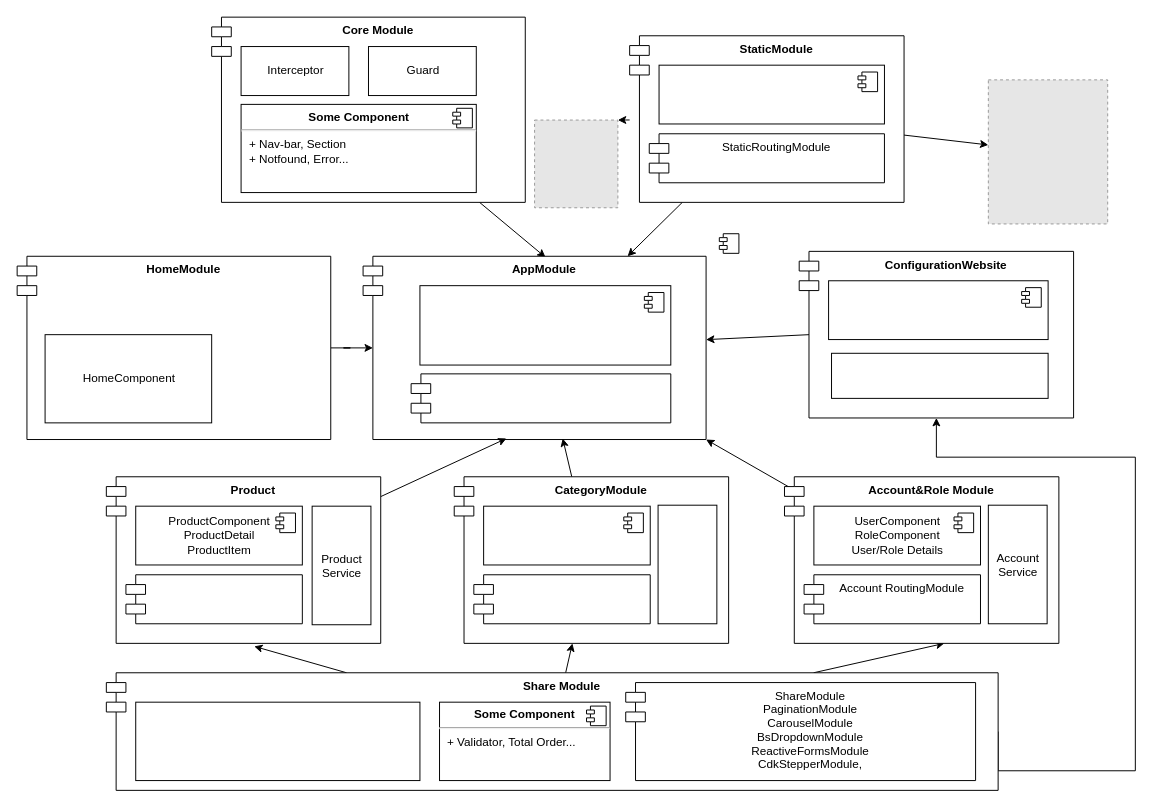
The diagram is 1160 pixels wide and 808 high, and some of its shapes have lost their labels. Grey dashed boxes stand in for pictures. Here are the shapes that lost their labels. From the top down, the centre of each, then its label:
At (771,94): "StaticComponent StaticItem StaticDetails".
At (545,325): "AppComponent".
At (938,310): "Confuguration".
At (939,375): "Configuration service".
At (540,398): "AppRouting".
At (566,535): "CategoryComponent CategoryItem CategoryDetail".
At (687,564): "Category Service".
At (213,599): "ProductRouting".
At (561,599): "CategoryRouting".
At (277,741): "Model".
